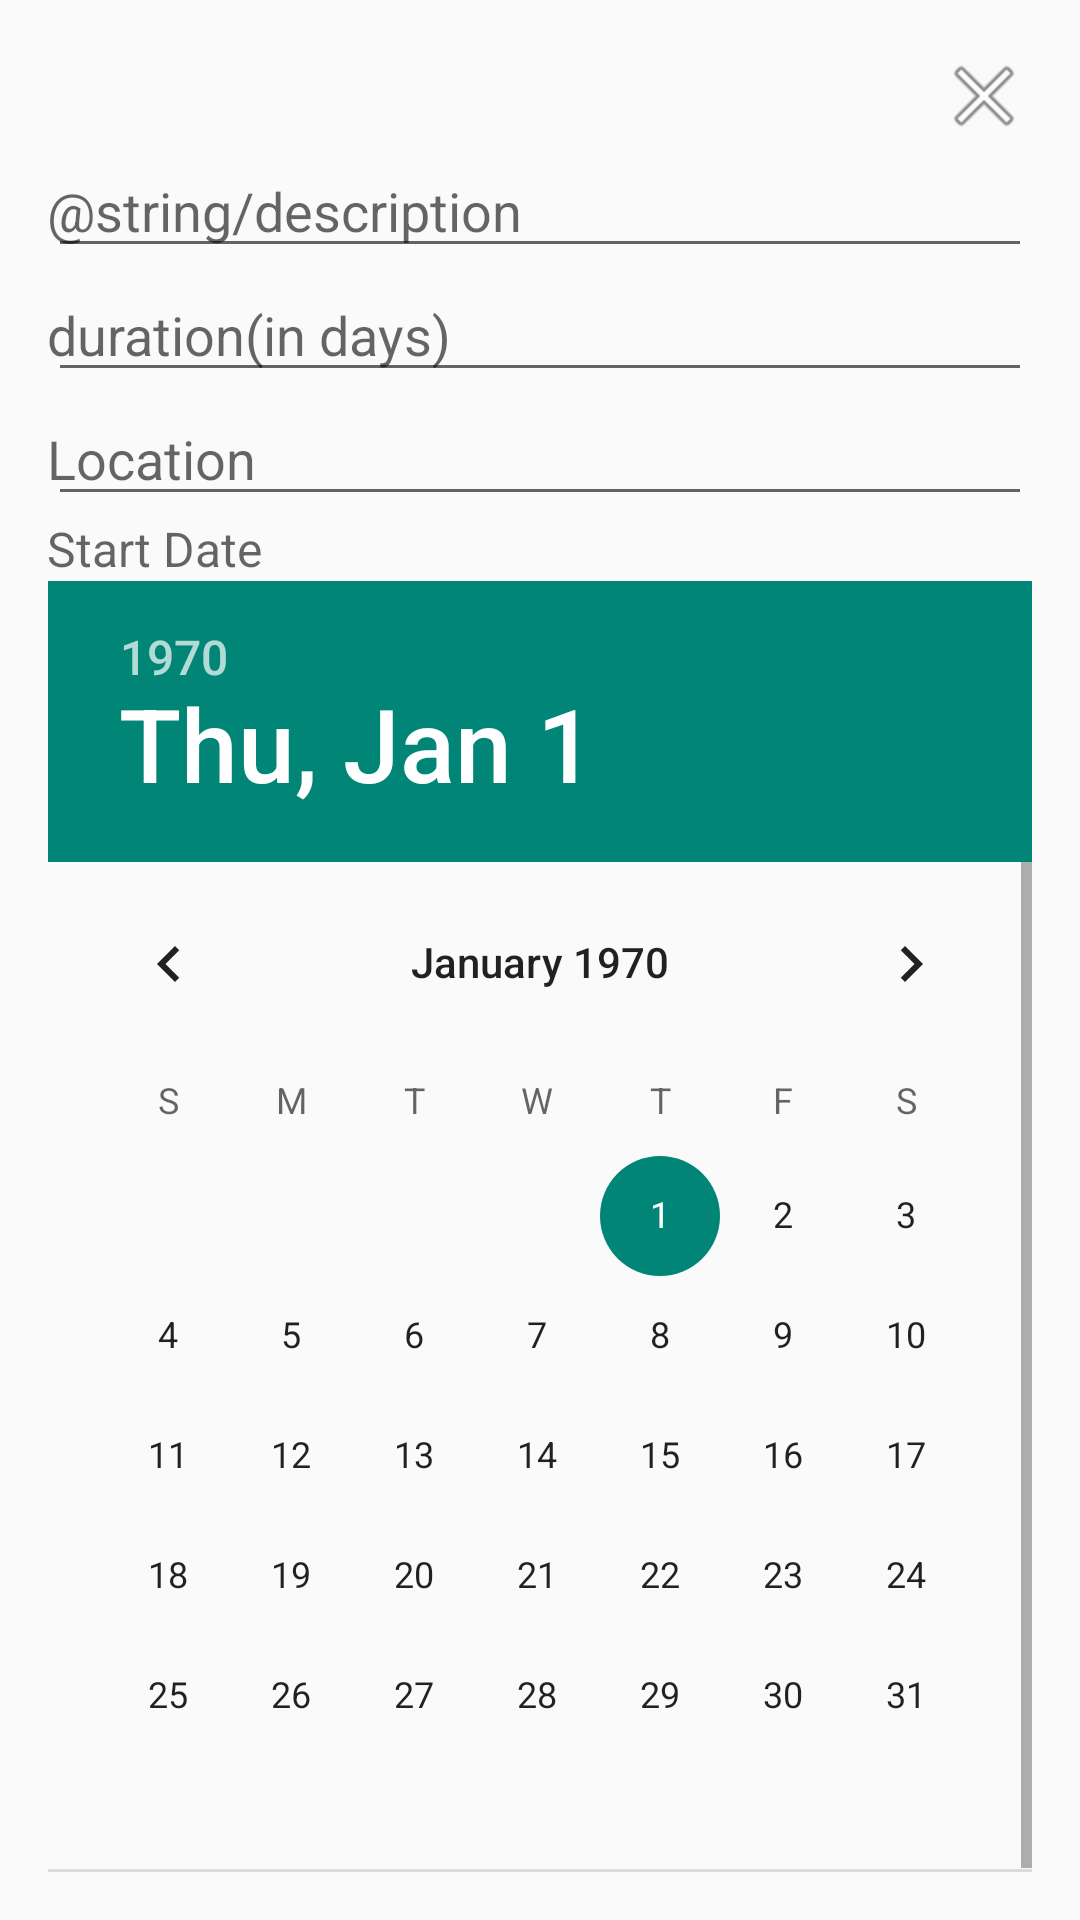

Point at icon controls on the screen. Image size 1080px x 1920px, points as [x,y].
close clear cancel: [984,96]
